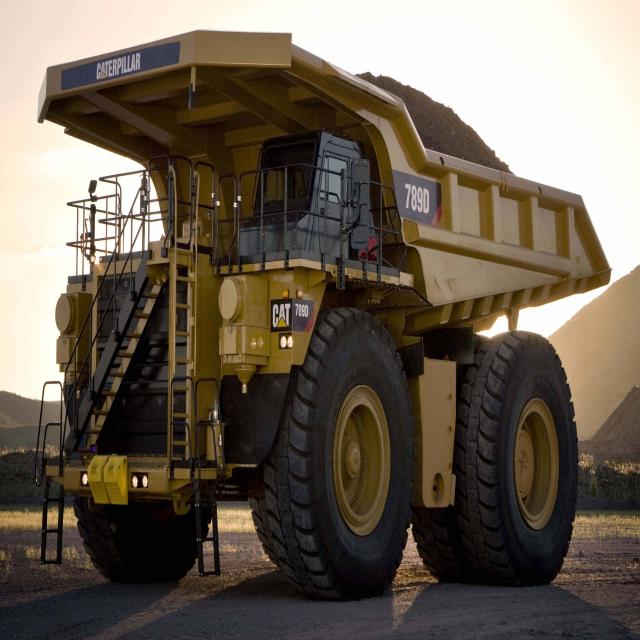dump_truck: (30, 28, 587, 584)
